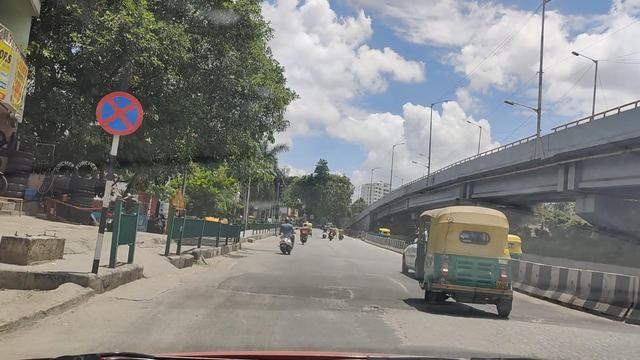LMV: (420, 207, 512, 321)
RoadDamages: (322, 292, 412, 313), (375, 270, 401, 286)
